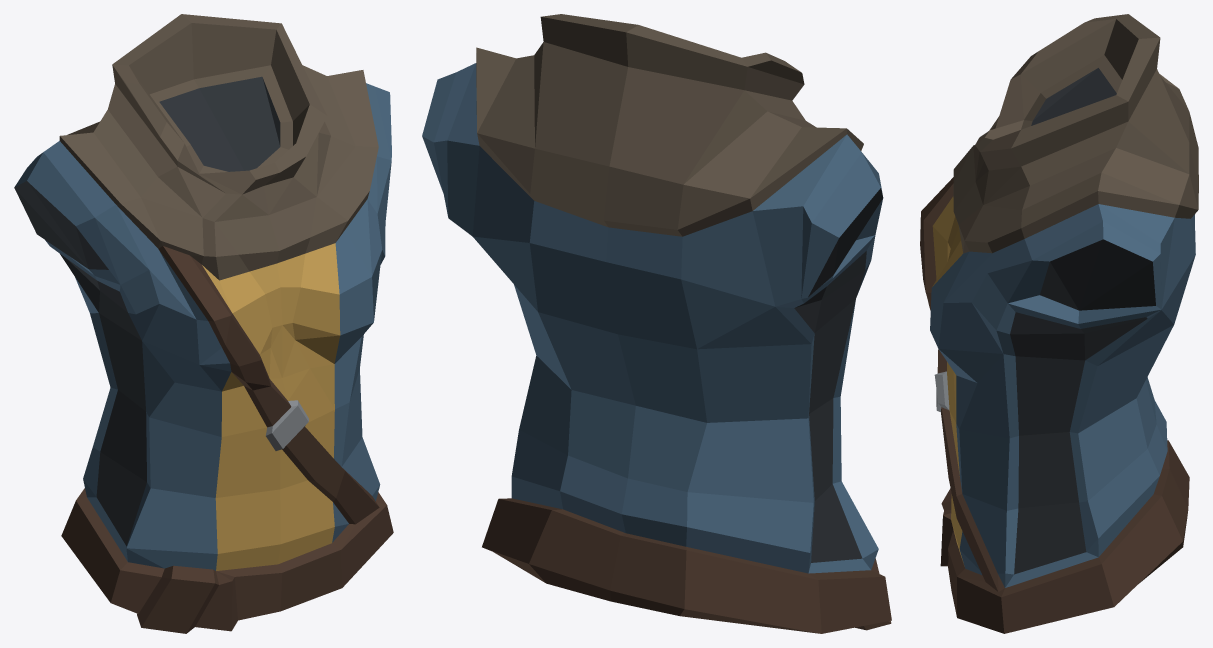
The model's file is Chr_Torso_Female_06_Static.fbx.
3 views of the same model, side by side, from view 1: azimuth 30°, elevation 25°; view 2: azimuth 150°, elevation 25°; view 3: azimuth 270°, elevation 25° (orthographic). The views are drawn at different scales.
Visible parts, largest first — view 1: Chr_Torso_Female_06_Static; view 2: Chr_Torso_Female_06_Static; view 3: Chr_Torso_Female_06_Static.
Part boxes in pixels (<box>): Chr_Torso_Female_06_Static: <box>14,14,393,633</box>; Chr_Torso_Female_06_Static: <box>422,14,891,633</box>; Chr_Torso_Female_06_Static: <box>920,14,1198,633</box>.
Bounding box in the file's own units: 0.5172 × 0.7205 × 0.3263.
